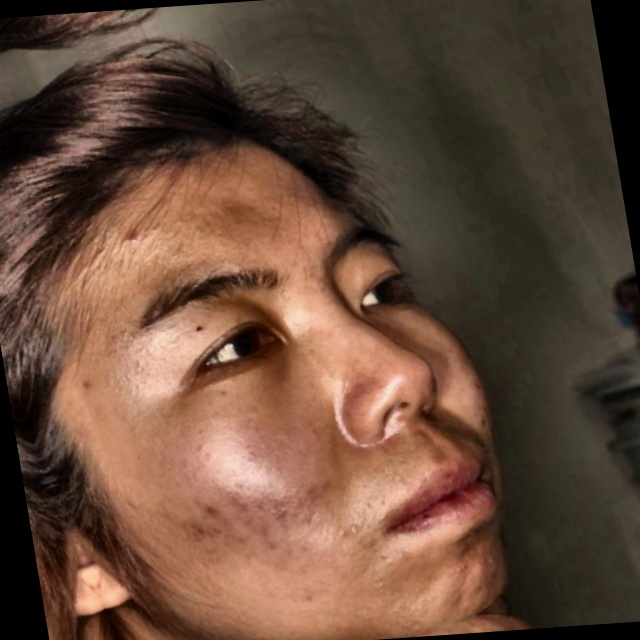comedone: (191, 492, 233, 539), (115, 217, 157, 252)
